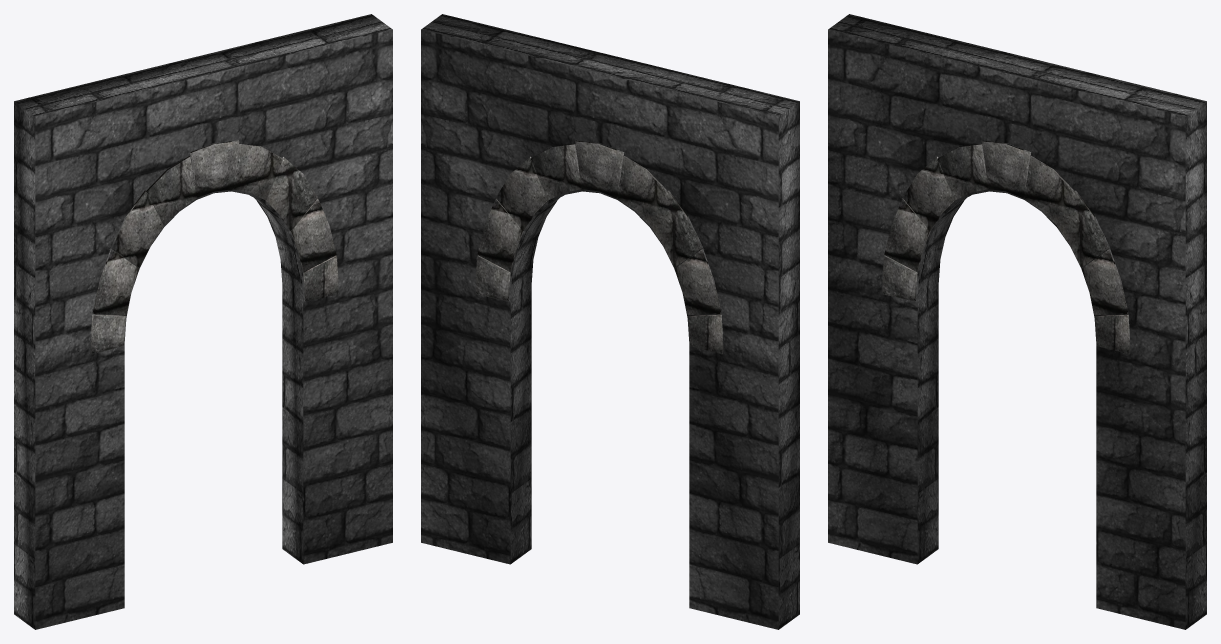
File: stone door3.glb
The picture shows the model from 3 angles, left to right: view 1: azimuth 30°, elevation 25°; view 2: azimuth 150°, elevation 25°; view 3: azimuth 330°, elevation 25°; orthographic projection.
Visible parts, largest first — view 1: Circular Doorway.010; view 2: Circular Doorway.010; view 3: Circular Doorway.010.
Part boxes in pixels (box(x1,y1,x2,y2)): Circular Doorway.010: box(14, 14, 392, 629); Circular Doorway.010: box(421, 14, 799, 629); Circular Doorway.010: box(828, 14, 1206, 629).
Size of the model in its own units: 2 by 2.74 by 0.225.
2 materials, 2 textured.
